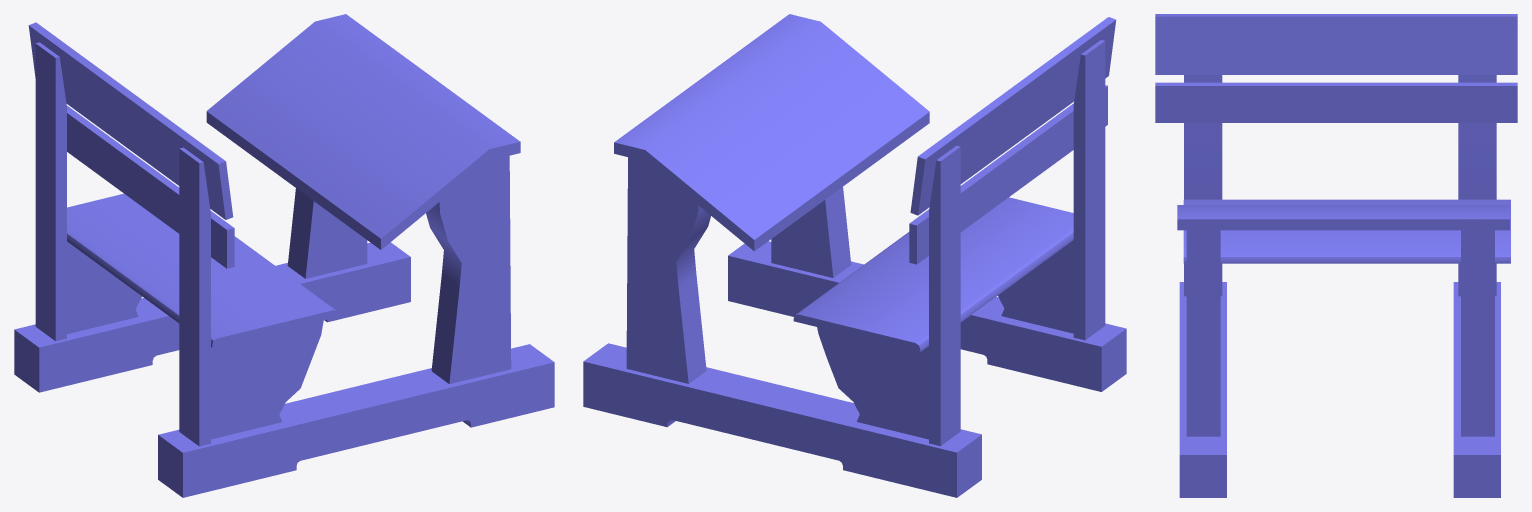
Rendered from Cadeira.fbx.
3 views of the same model, side by side, from view 1: azimuth 30°, elevation 25°; view 2: azimuth 150°, elevation 25°; view 3: azimuth 270°, elevation 25° (orthographic). The views are drawn at different scales.
Parts seen in each view (by area): view 1: pCube16; view 2: pCube16; view 3: pCube16.
Boxes of the visible parts, bbox=[...] form: pCube16: bbox=[14, 14, 554, 497]; pCube16: bbox=[583, 14, 1126, 497]; pCube16: bbox=[1155, 14, 1517, 497].
Bounding box in the file's own units: 1.6 × 1.39 × 1.42.
